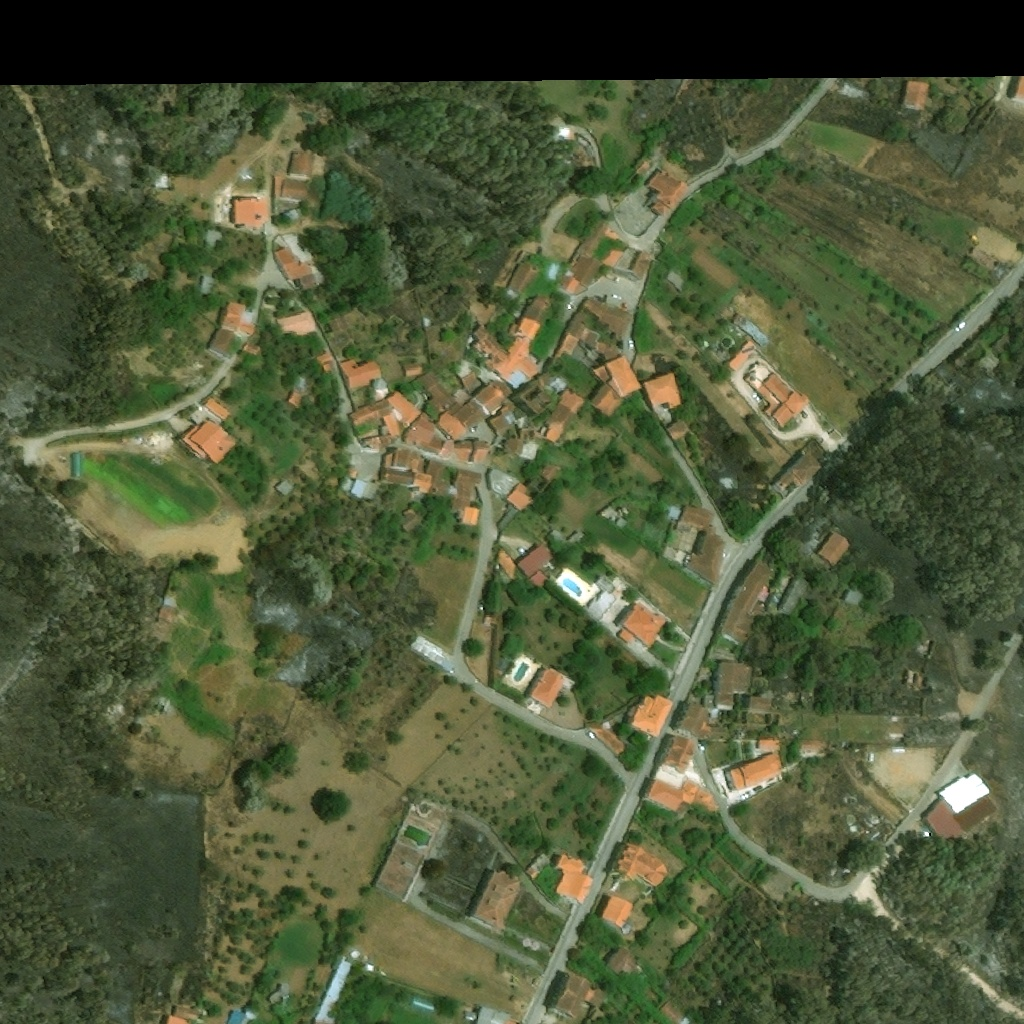0 no-damage: (346, 390, 490, 464), (674, 662, 777, 742), (472, 291, 552, 390), (921, 773, 997, 847), (666, 504, 726, 587), (435, 380, 514, 442), (722, 563, 777, 648), (739, 362, 808, 429), (559, 221, 619, 295), (199, 275, 257, 340), (374, 450, 451, 498), (588, 354, 642, 417), (372, 843, 428, 901), (469, 870, 521, 931), (556, 312, 619, 360), (272, 232, 324, 290), (652, 735, 704, 790), (310, 959, 352, 1023), (642, 779, 718, 814), (180, 420, 237, 465), (585, 574, 627, 635), (722, 751, 783, 791), (579, 297, 634, 340), (618, 601, 667, 649), (617, 842, 668, 887), (625, 693, 674, 739), (546, 972, 591, 1022), (553, 853, 595, 906), (647, 168, 690, 218), (495, 483, 537, 533), (771, 452, 822, 493), (272, 153, 312, 202), (500, 261, 541, 305), (602, 247, 652, 283), (416, 370, 457, 413), (337, 354, 381, 394), (451, 468, 481, 526), (515, 544, 553, 589), (545, 389, 584, 432), (508, 380, 553, 417), (539, 443, 579, 483), (642, 372, 684, 410), (529, 668, 567, 709), (588, 719, 626, 757), (815, 531, 852, 568), (775, 577, 809, 616), (277, 310, 317, 340), (233, 197, 266, 233), (604, 947, 641, 979), (601, 896, 635, 930), (732, 314, 767, 346), (724, 340, 757, 373), (453, 359, 483, 393), (487, 469, 520, 499), (897, 81, 929, 110), (486, 403, 513, 435), (208, 327, 238, 355), (493, 547, 515, 583), (524, 853, 550, 881), (503, 428, 529, 456), (338, 476, 367, 498), (160, 1006, 197, 1023), (265, 983, 289, 1009), (475, 1007, 514, 1023), (204, 397, 231, 420), (657, 1001, 684, 1023), (399, 506, 420, 532), (550, 529, 574, 551), (587, 989, 609, 1010), (315, 350, 334, 373), (598, 504, 622, 522), (842, 587, 863, 607), (274, 477, 296, 496), (513, 408, 530, 430), (227, 1010, 255, 1023), (281, 208, 304, 223), (203, 227, 222, 245), (754, 738, 781, 750), (567, 529, 585, 546), (655, 410, 673, 427), (242, 340, 261, 356), (286, 391, 303, 407), (522, 441, 537, 459), (402, 363, 421, 377), (636, 160, 651, 176), (551, 378, 568, 392), (155, 172, 169, 188), (801, 740, 819, 751), (529, 427, 542, 442), (615, 518, 628, 529), (363, 963, 373, 972)
3 destroyed: (905, 670, 926, 688), (919, 641, 932, 658)
4 un-classified: (970, 351, 999, 379), (990, 331, 1017, 358), (1008, 69, 1023, 101), (553, 126, 575, 139), (542, 261, 556, 280)
